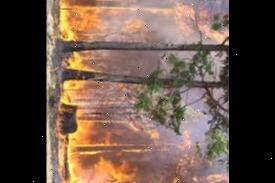fire: (53, 0, 99, 183)
